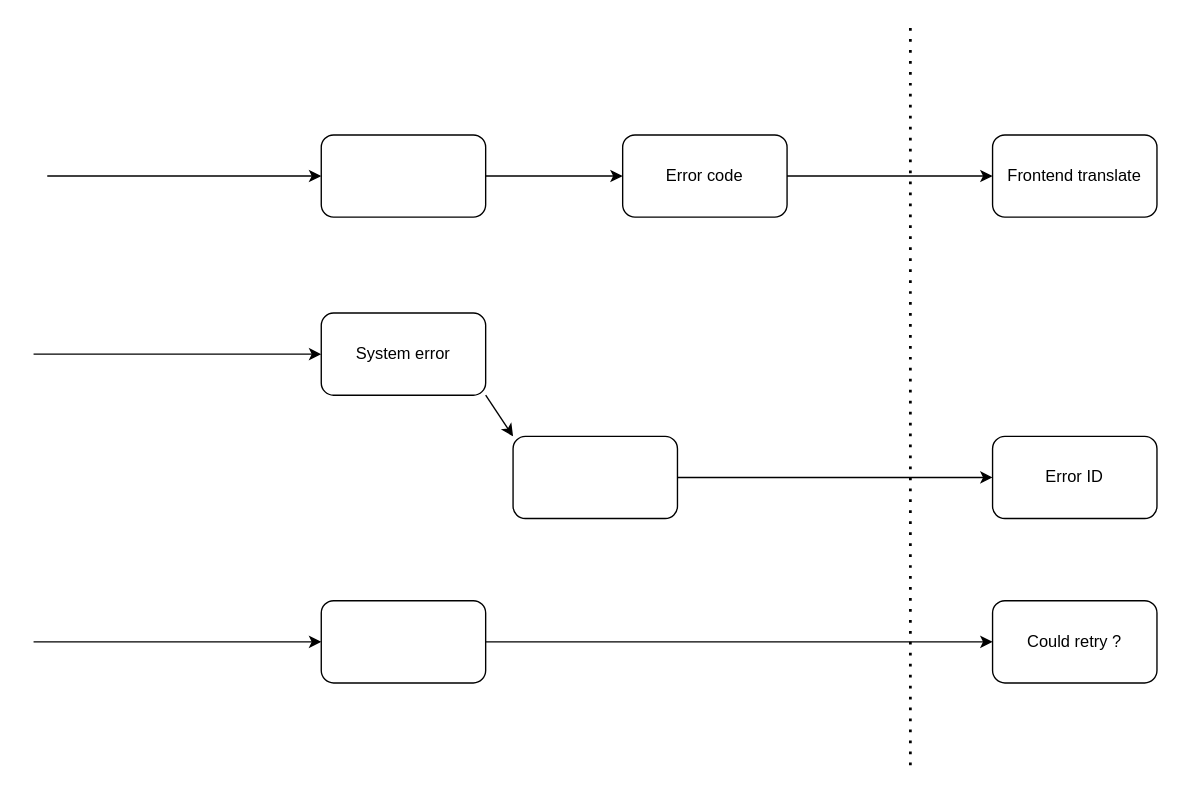
This 1181x790 diagram has some shape labels left out. The box of each missing label's shape, as (x1, y1, x2, y2) in pixels:
3rd party error: (320, 599, 486, 683)
User error: (320, 134, 486, 217)
Write log: (512, 435, 677, 519)
